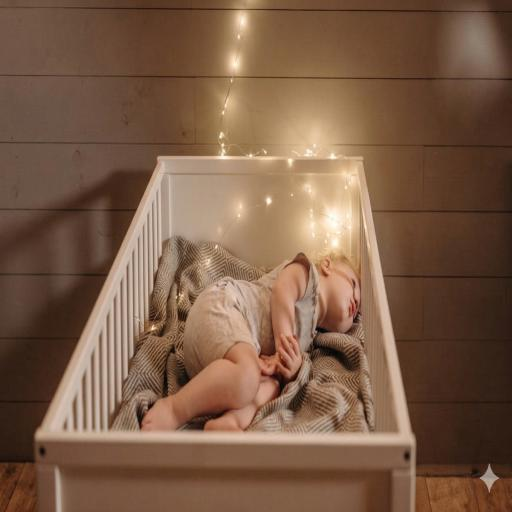baby: (142, 253, 360, 430)
crib: (35, 158, 415, 511)
